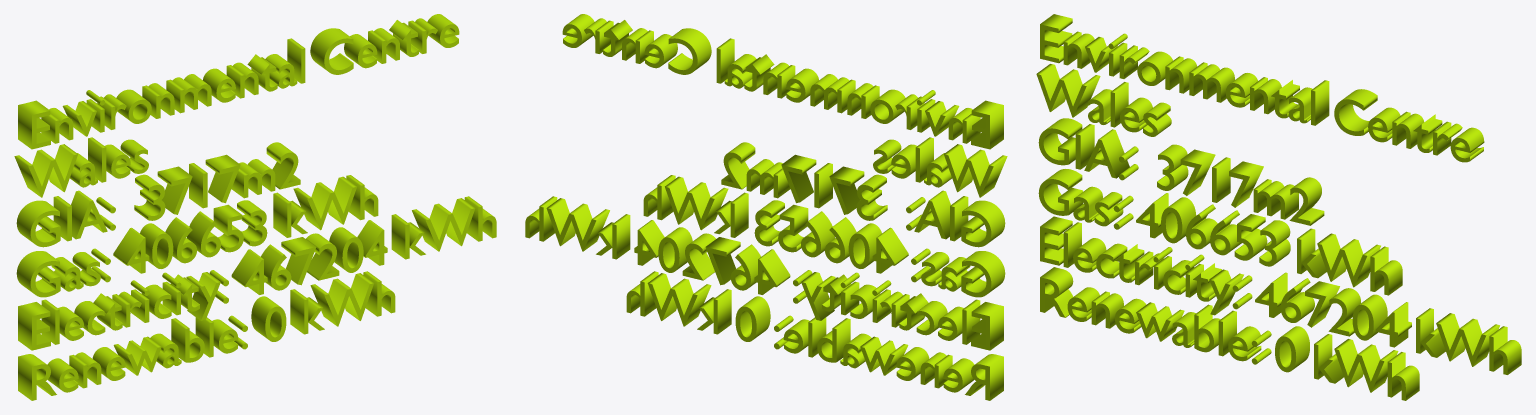
File: ECW.gltf
The picture shows the model from 3 angles, left to right: view 1: azimuth 30°, elevation 25°; view 2: azimuth 150°, elevation 25°; view 3: azimuth 330°, elevation 25°; orthographic projection.
Visible parts, largest first — view 1: Text; view 2: Text; view 3: Text.
Part boxes in pixels (x1,y1,x2,y2): Text: [14, 14, 496, 400]; Text: [525, 14, 1007, 400]; Text: [1036, 14, 1521, 400].
Bounding box in the file's own units: 9.75 × 5.7 × 0.5.
